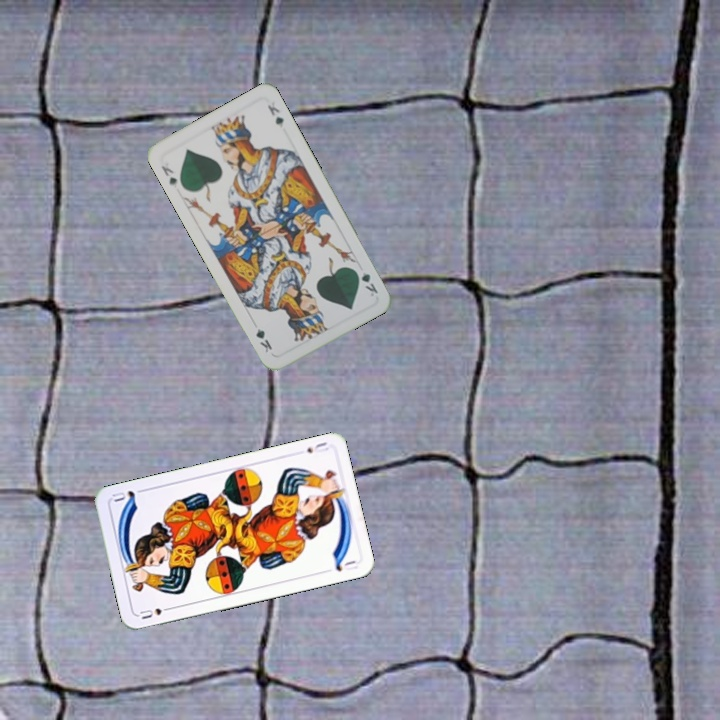GK: (350, 265, 380, 299), (157, 161, 180, 188)
SU: (136, 602, 175, 622), (303, 438, 331, 456)
